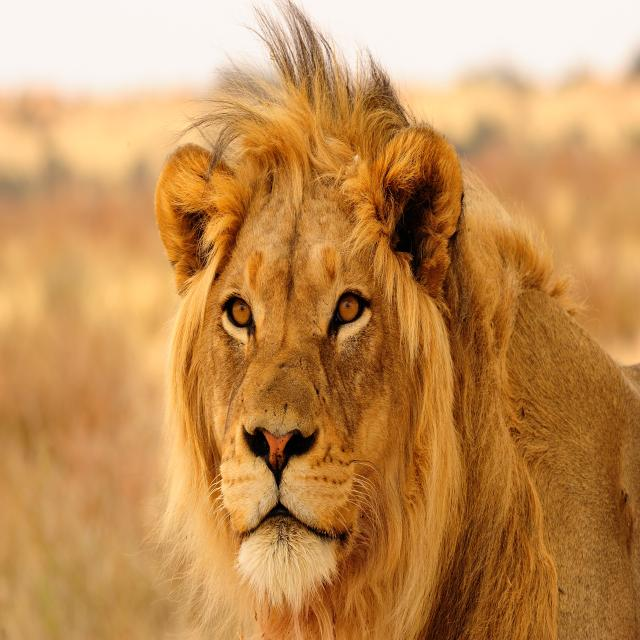Lion: (149, 79, 640, 635)
